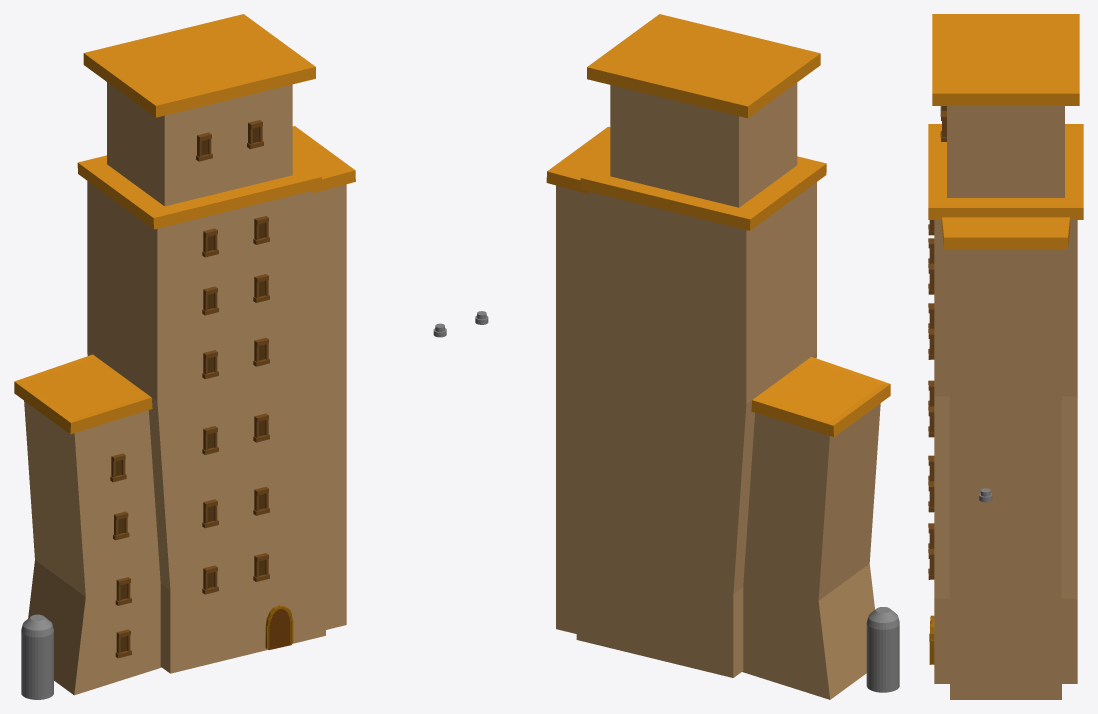
The model's file is Apartment_Building_14.fbx.
The picture shows the model from 3 angles, left to right: view 1: azimuth 30°, elevation 25°; view 2: azimuth 150°, elevation 25°; view 3: azimuth 270°, elevation 25°; orthographic projection. The views are drawn at different scales.
Parts seen in each view (by area): view 1: Cube, Cylinder.002, Cube.466; view 2: Cube, Cylinder.002; view 3: Cube, Cube.466.
Boxes of the visible parts, x1=… form: Cube: x1=14, y1=14, x2=355, y2=695; Cylinder.002: x1=21, y1=614, x2=53, y2=699; Cube.466: x1=265, y1=605, x2=293, y2=649; Cube: x1=546, y1=14, x2=890, y2=699; Cylinder.002: x1=866, y1=607, x2=899, y2=692; Cube: x1=928, y1=14, x2=1083, y2=699; Cube.466: x1=929, y1=615, x2=934, y2=664.
Bounding box in the file's own units: 2953 × 3929 × 924.
